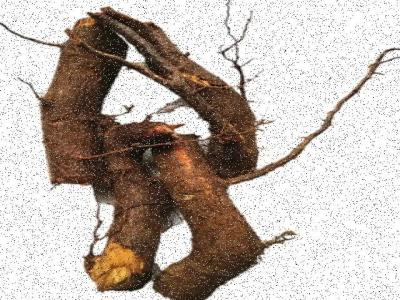Root: (41, 17, 261, 300), (90, 8, 258, 178), (154, 142, 263, 300)
